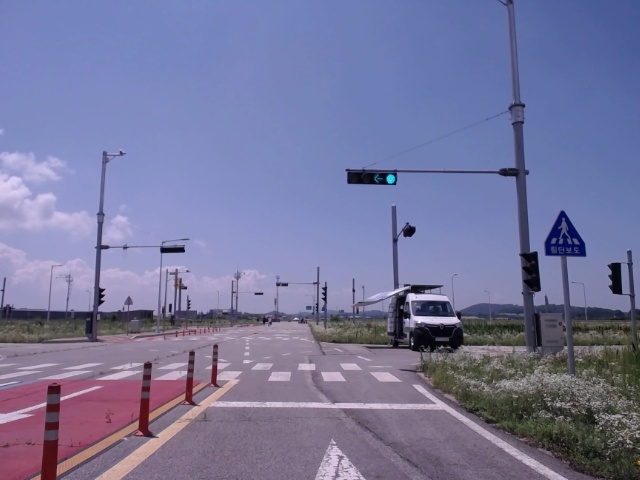all_green_4: (347, 169, 399, 183)
